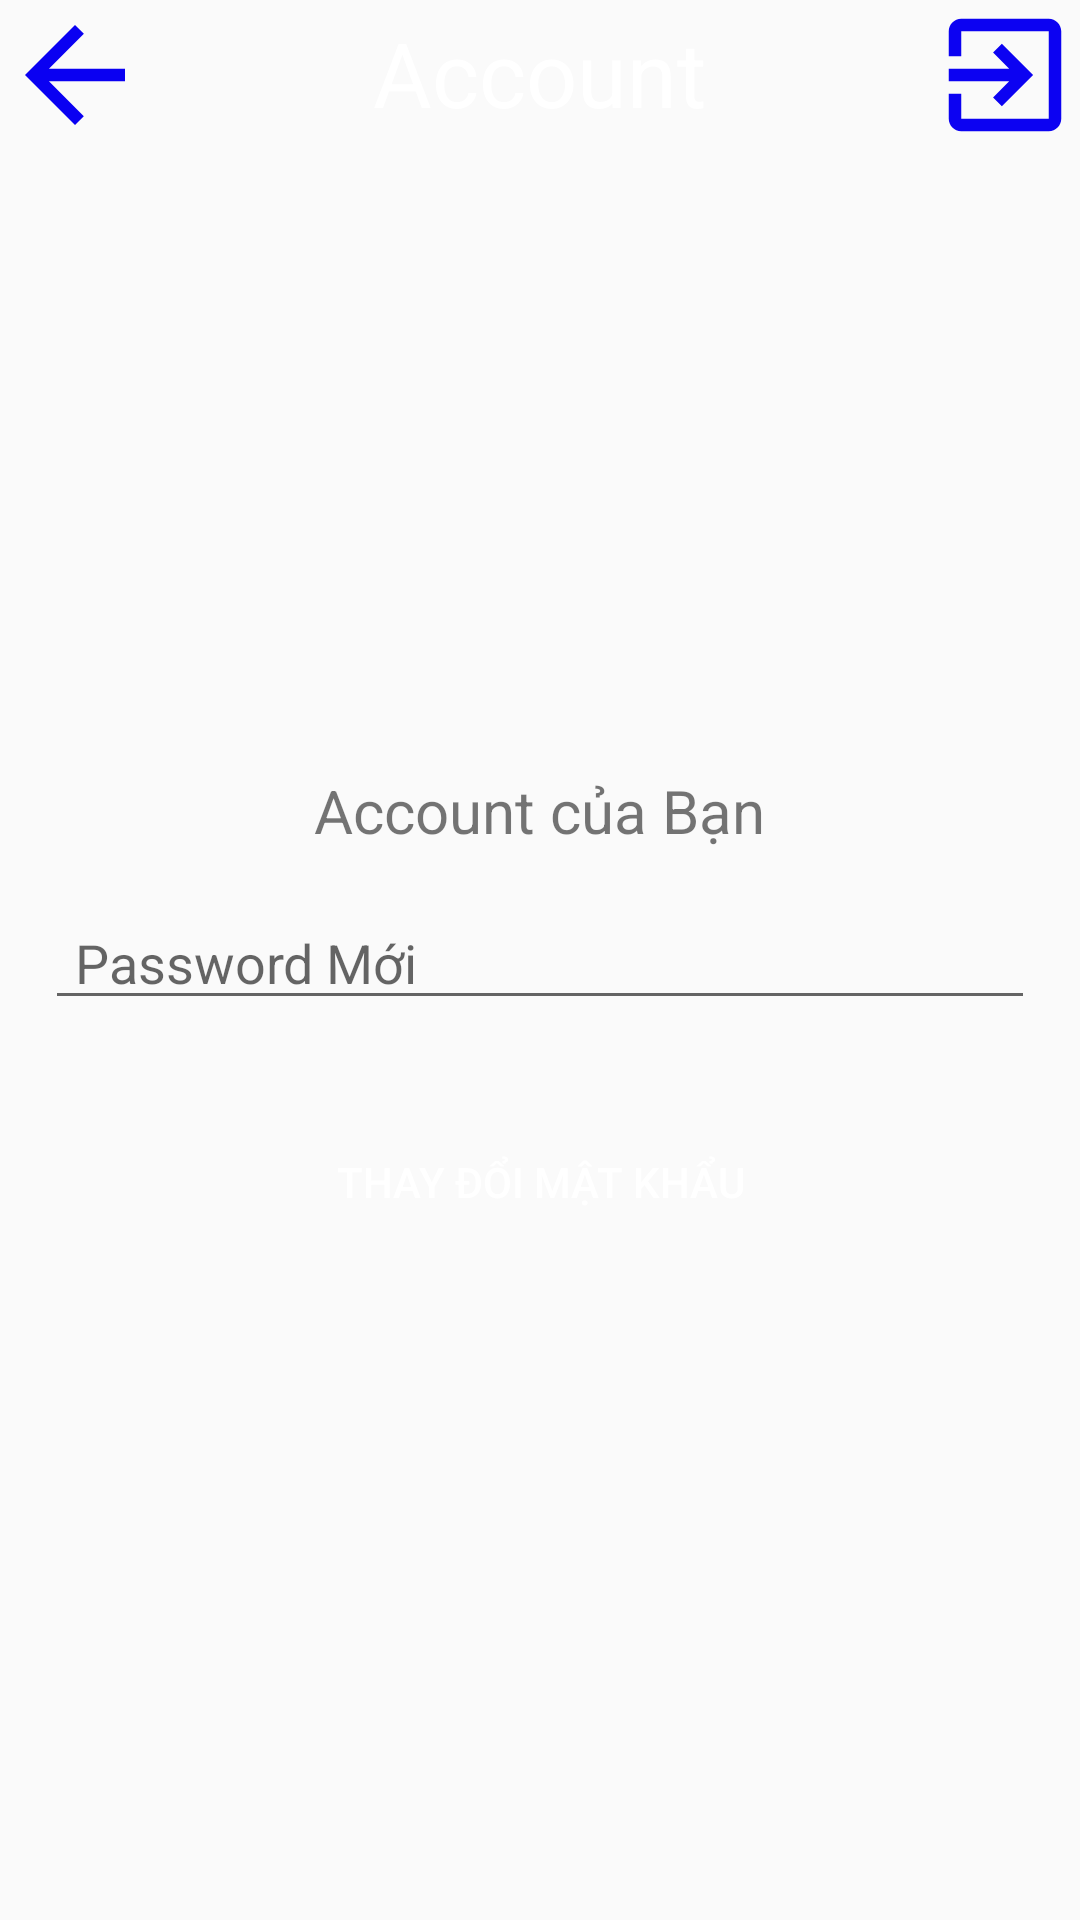

Named icons in this screenshot (1080w x 1920h) and their centers, (x,y):
arrow back: (75,75)
exit to app: (1005,75)
